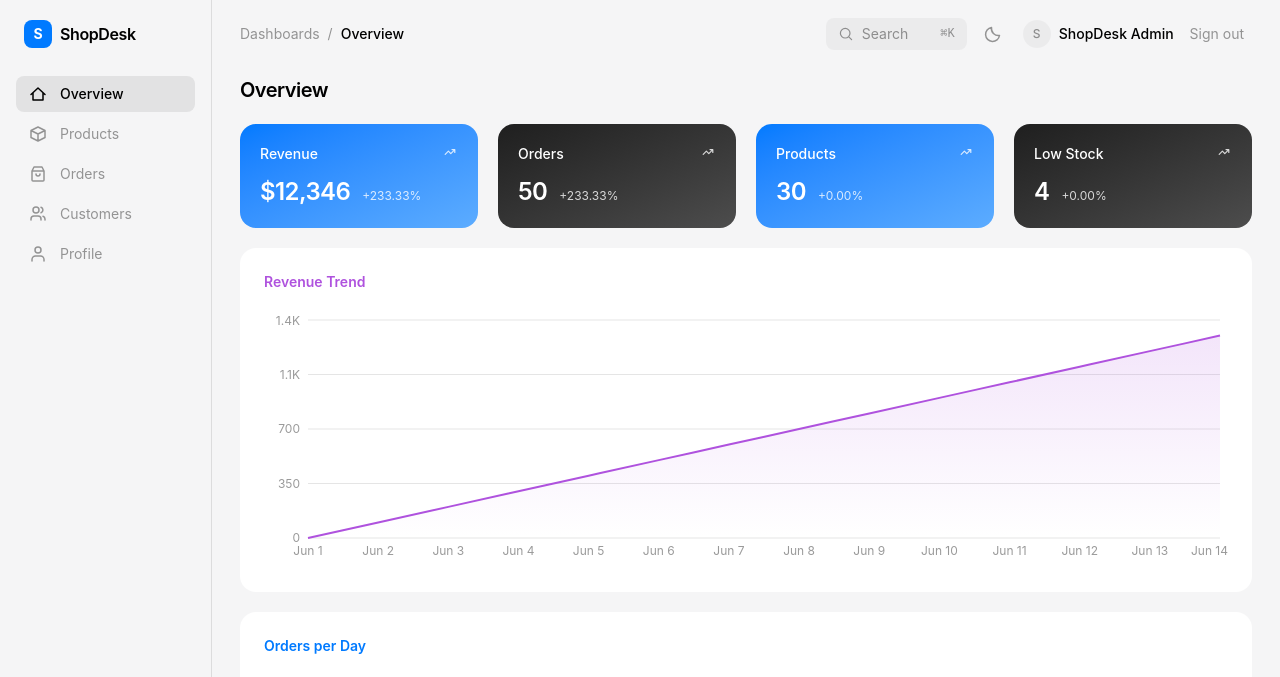
Test: login › signs out back to the login page
The width and height of the screenshot is (1280, 677).
Check: the heading "Overview" is shown, box [240,78,328,102]
Click the button "Sign out".
click(1217, 34)  # box [1182,20,1252,48]
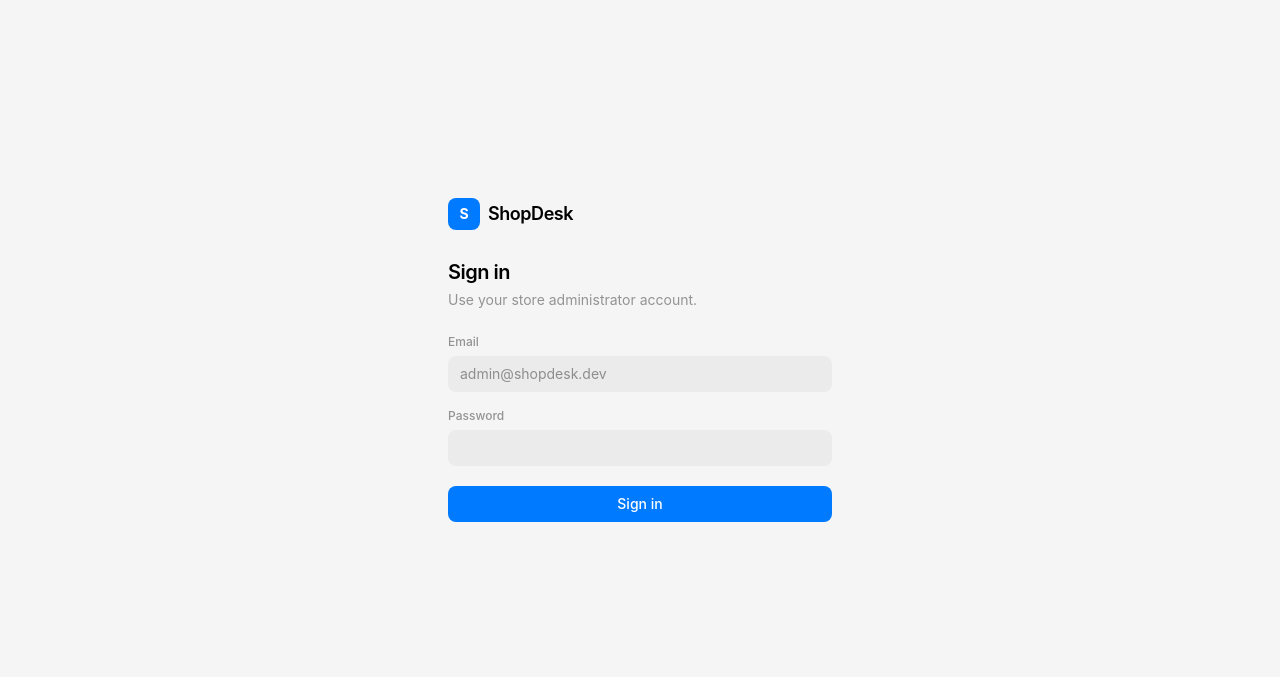
Check: the heading "Sign in" is shown, box [448,260,510,284]
